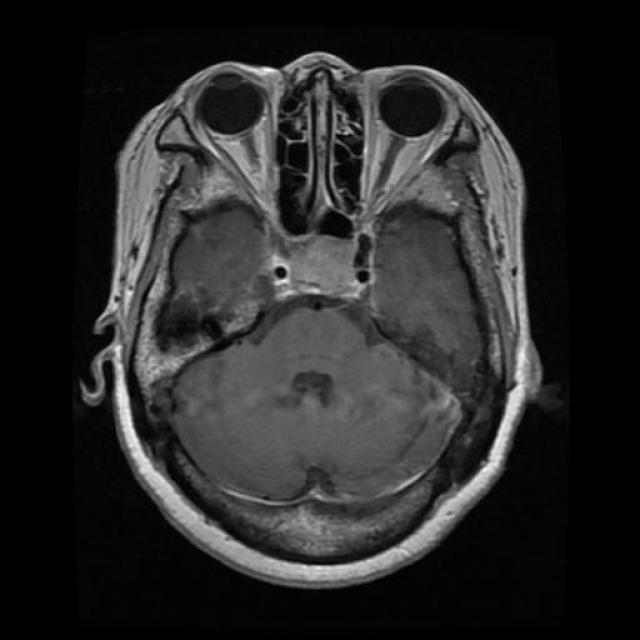pituitary: (267, 202, 380, 314)
